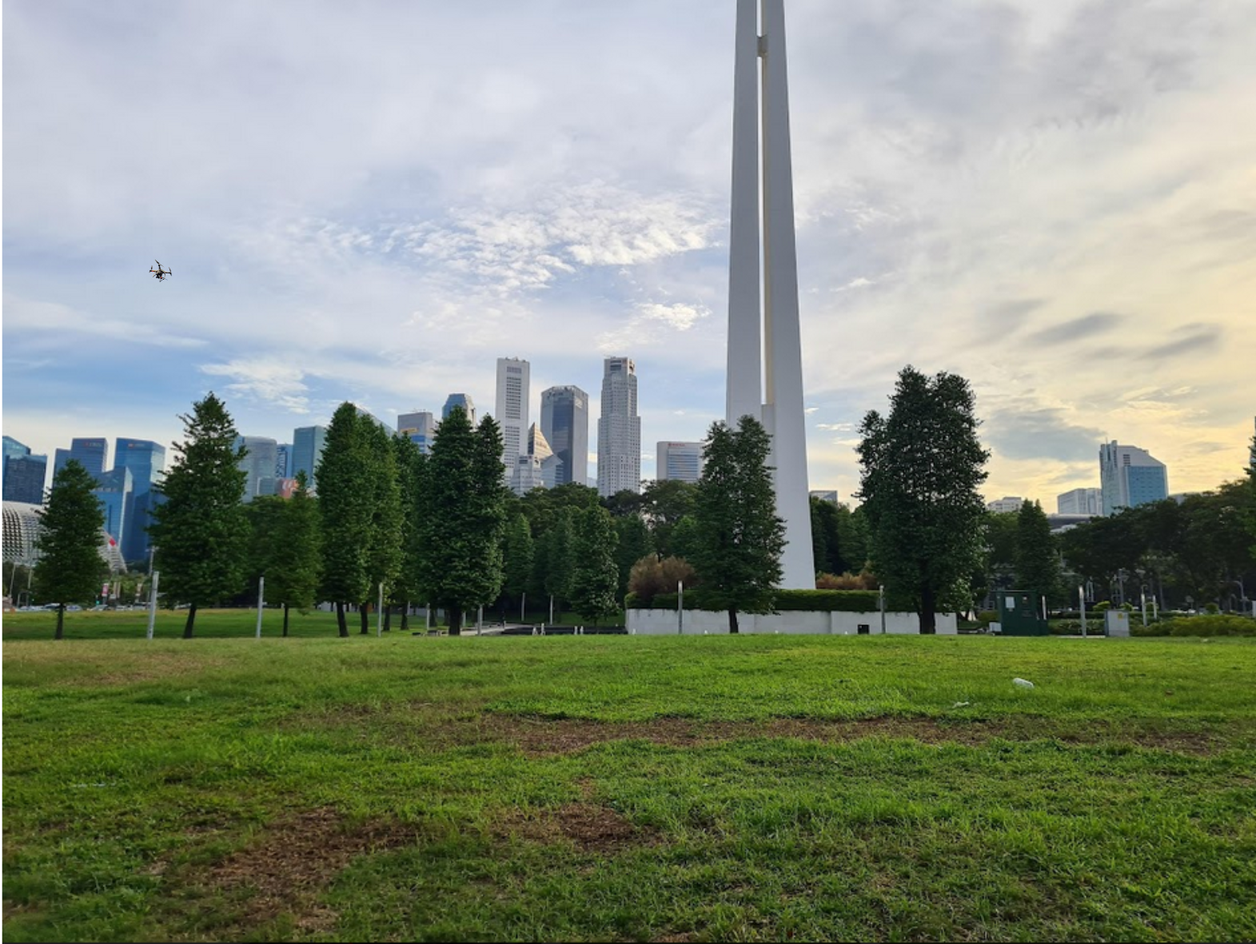drone_other: (148, 259, 173, 283)
